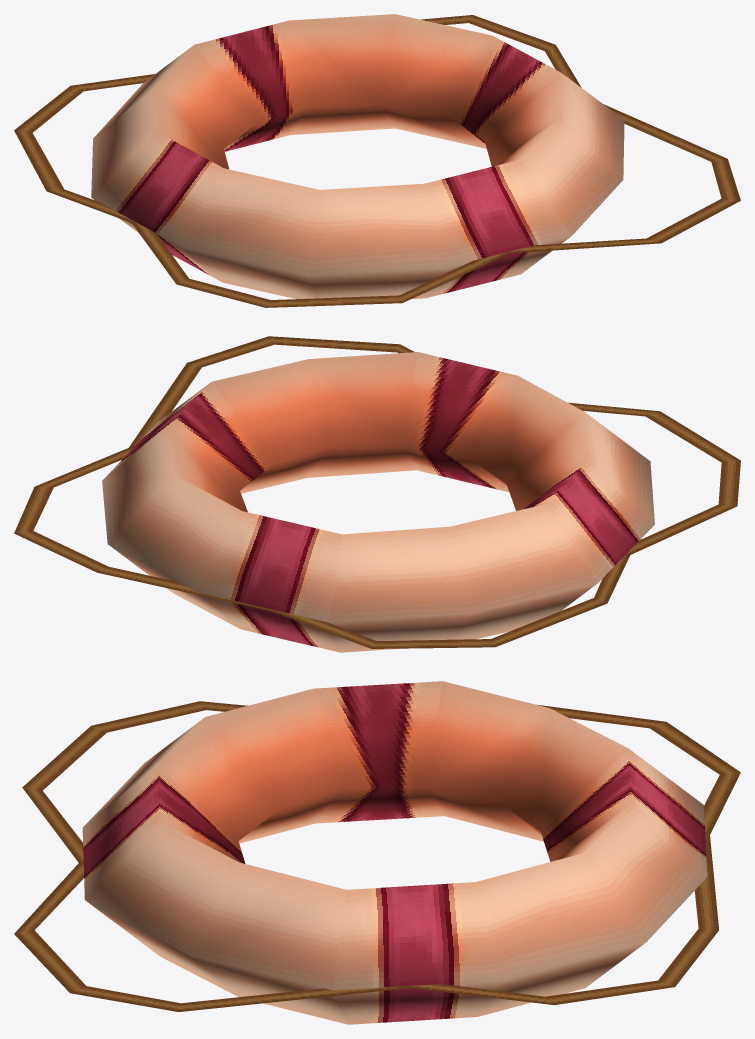
Rendered from a_SEswim01.glb.
3 views of the same model, one above another, from view 1: azimuth 30°, elevation 25°; view 2: azimuth 150°, elevation 25°; view 3: azimuth 270°, elevation 25° (orthographic). The views are drawn at different scales.
Visible parts, largest first — view 1: a_SEswim01; view 2: a_SEswim01; view 3: a_SEswim01.
Boxes of the visible parts, x1,y1,x2,y2 form: a_SEswim01: (14, 14, 740, 307); a_SEswim01: (14, 336, 740, 652); a_SEswim01: (14, 681, 740, 1024).
Size of the model in its own units: 0.6274 by 0.1266 by 0.6175.
Materials: 1 (1 with a texture image).
